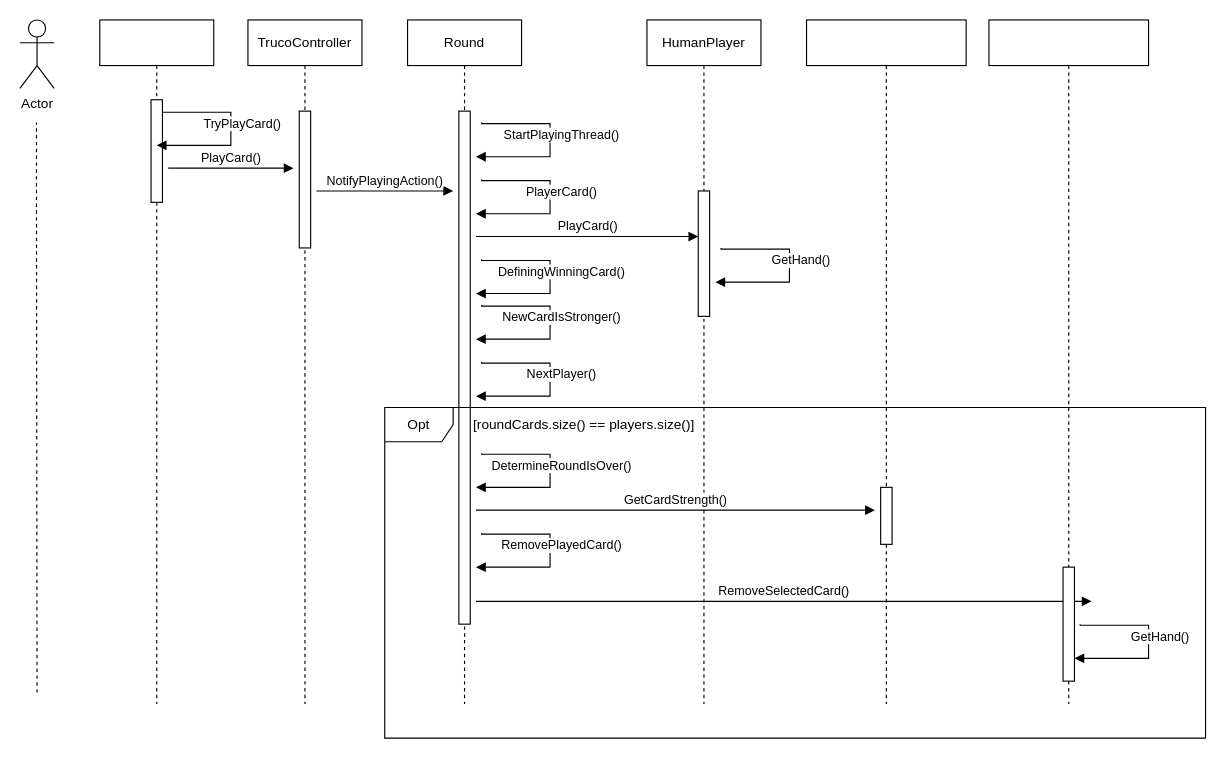
Some shapes in this 1226 by 758 pixel diagram are drawn without their labels. Here are the shapes that lost their labels. From the top down, the box of each, then its label:
(99, 19, 214, 704): TrucoView
(805, 19, 966, 704): CardStrengthCalculator
(988, 19, 1149, 704): Player
